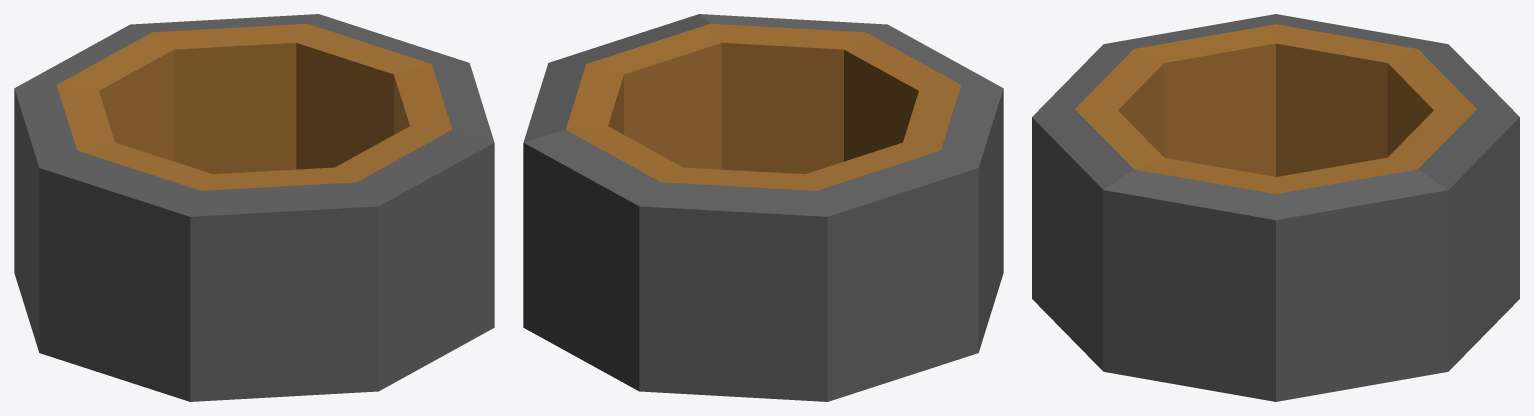
File: TestDucttapeUsed.fbx
The picture shows the model from 3 angles, left to right: view 1: azimuth 30°, elevation 25°; view 2: azimuth 150°, elevation 25°; view 3: azimuth 270°, elevation 25°; orthographic projection.
Parts seen in each view (by area): view 1: Cylinder.001; view 2: Cylinder.001; view 3: Cylinder.001.
Part boxes in pixels (left/top/right/bottom): Cylinder.001: left=14, top=14, right=494, bottom=401; Cylinder.001: left=523, top=14, right=1003, bottom=401; Cylinder.001: left=1032, top=14, right=1519, bottom=401.
Bounding box in the file's own units: 11.11 × 4.97 × 11.11.
1 material, 1 textured.
